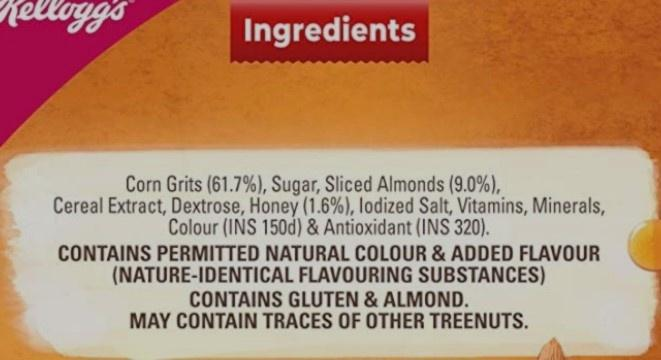ingredients: (29, 3, 642, 344)
